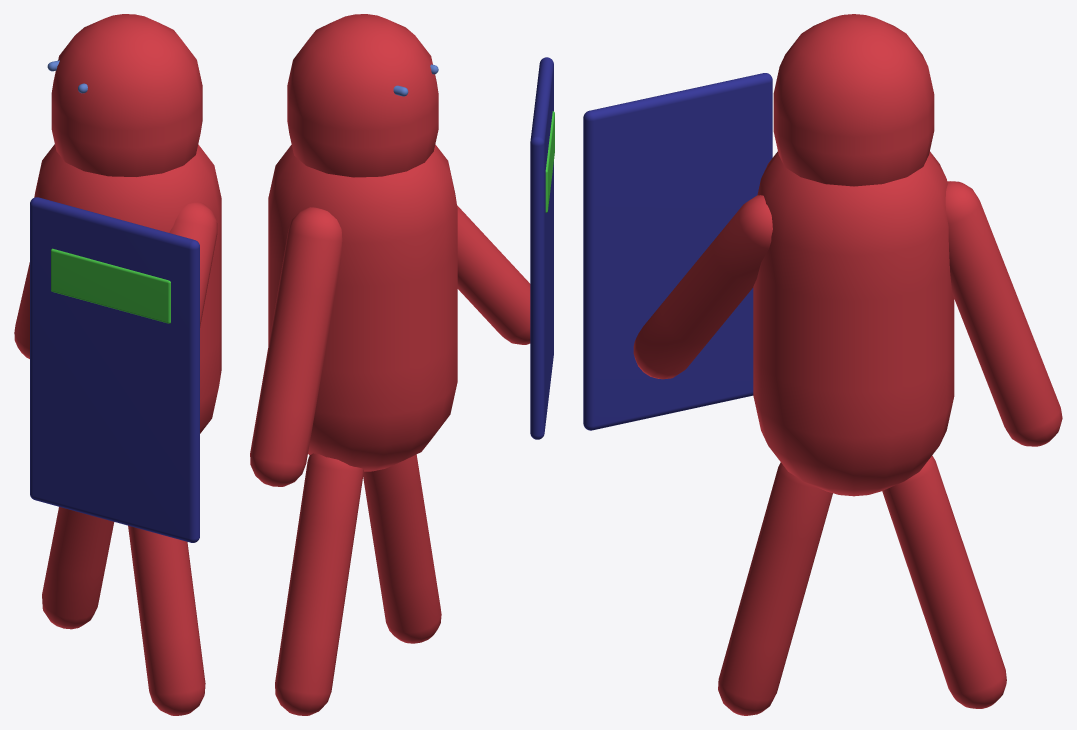
File: boss.fbx
3 renders of one model, left to right at view 1: azimuth 30°, elevation 25°; view 2: azimuth 150°, elevation 25°; view 3: azimuth 270°, elevation 25°, orthographic. The views are drawn at different scales.
Visible parts, largest first — view 1: Cube, Capsule_1_2, Capsule_2_2, Capsule_2, Capsule_4, Cube_1, Capsule_5, Capsule_3; view 2: Capsule_2_2, Capsule_1_2, Capsule_3, Capsule_4, Capsule_2, Cube, Capsule_5, Cube_1; view 3: Capsule_2_2, Cube, Capsule_1_2, Capsule_3, Capsule_4, Capsule_2, Capsule_5.
Part boxes in pixels (bbox=[...]): Cube: bbox=[30, 197, 199, 542]; Capsule_1_2: bbox=[51, 14, 202, 176]; Capsule_2_2: bbox=[34, 144, 221, 433]; Capsule_2: bbox=[128, 525, 205, 715]; Capsule_4: bbox=[42, 507, 114, 629]; Cube_1: bbox=[51, 248, 170, 323]; Capsule_5: bbox=[169, 202, 217, 327]; Capsule_3: bbox=[14, 262, 29, 358]; Capsule_2_2: bbox=[268, 144, 457, 471]; Capsule_1_2: bbox=[287, 14, 438, 177]; Capsule_3: bbox=[250, 207, 342, 486]; Capsule_4: bbox=[275, 453, 363, 715]; Capsule_2: bbox=[363, 454, 441, 643]; Cube: bbox=[530, 57, 553, 439]; Capsule_5: bbox=[457, 205, 530, 344]; Cube_1: bbox=[545, 111, 554, 212]; Capsule_2_2: bbox=[753, 151, 954, 496]; Cube: bbox=[583, 73, 772, 430]; Capsule_1_2: bbox=[773, 14, 934, 186]; Capsule_3: bbox=[945, 181, 1062, 446]; Capsule_4: bbox=[882, 455, 1006, 708]; Capsule_2: bbox=[718, 462, 832, 715]; Capsule_5: bbox=[633, 195, 772, 379].
Size of the model in its own units: 268 by 760 by 477.
